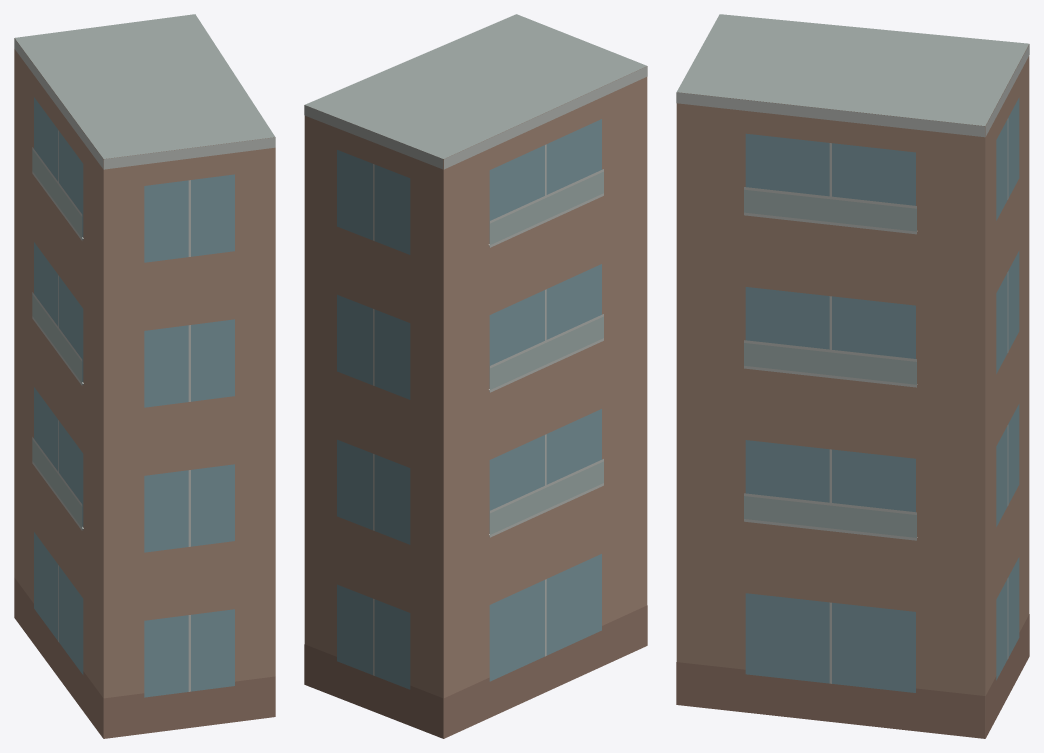
The model's file is survey-upis-32472869.glb.
3 views of the same model, side by side, from view 1: azimuth 30°, elevation 25°; view 2: azimuth 150°, elevation 25°; view 3: azimuth 270°, elevation 25° (orthographic). The views are drawn at different scales.
Parts seen in each view (by area): view 1: survey-upis-32472869.tmp; view 2: survey-upis-32472869.tmp; view 3: survey-upis-32472869.tmp.
Boxes of the visible parts, box(x1,y1,x2,y2) form: survey-upis-32472869.tmp: box(14, 14, 275, 738); survey-upis-32472869.tmp: box(304, 14, 647, 738); survey-upis-32472869.tmp: box(676, 14, 1029, 738).
Bounding box in the file's own units: 5.27 × 13.4 × 7.01.
